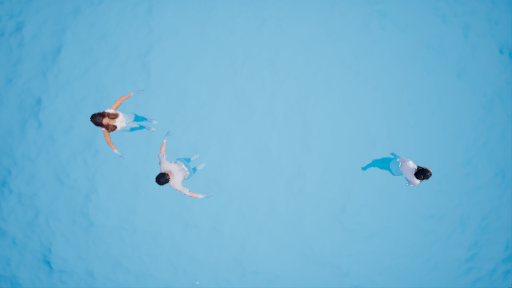person: (81, 88, 165, 144), (350, 143, 438, 191), (149, 146, 211, 203)
